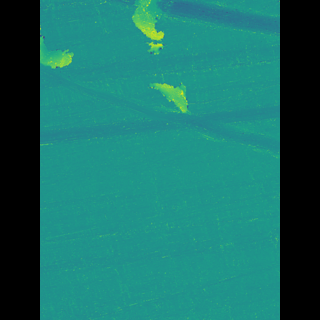Loch: (69, 61, 251, 162), (159, 0, 250, 42), (136, 0, 168, 57), (149, 76, 184, 121), (68, 25, 96, 80)
